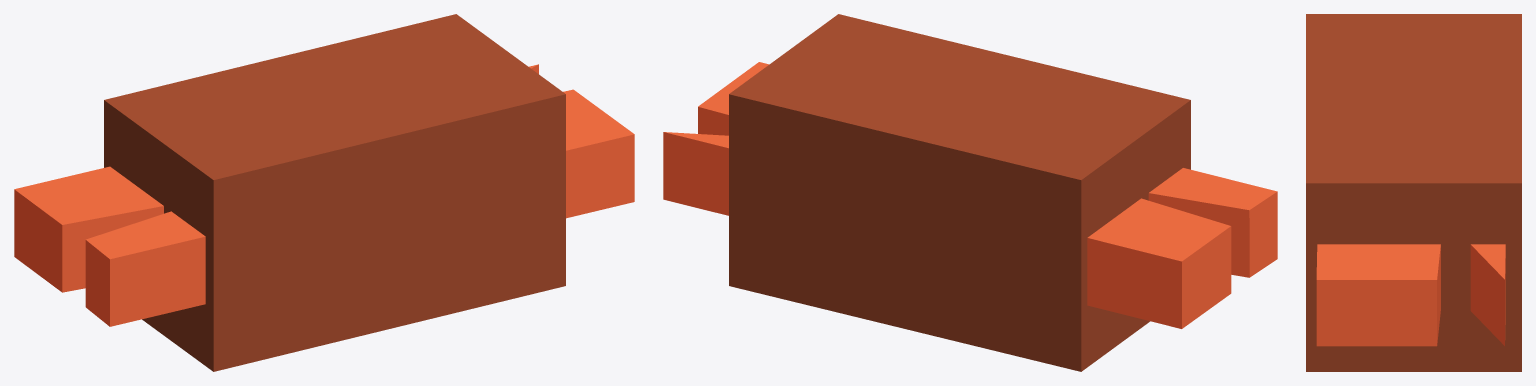
The model's file is Brick_flinder.fbx.
The picture shows the model from 3 angles, left to right: view 1: azimuth 30°, elevation 25°; view 2: azimuth 150°, elevation 25°; view 3: azimuth 270°, elevation 25°; orthographic projection.
Visible parts, largest first — view 1: Brick, Flinder; view 2: Brick, Flinder; view 3: Brick, Flinder.
Part boxes in pixels (x1,y1,x2,y2): Brick: (104,14,565,371); Flinder: (14,64,634,326); Brick: (729,14,1190,371); Flinder: (663,62,1277,328); Brick: (1306,14,1521,371); Flinder: (1316,244,1505,346).
Bounding box in the file's own units: 112 × 39.39 × 40.82.
